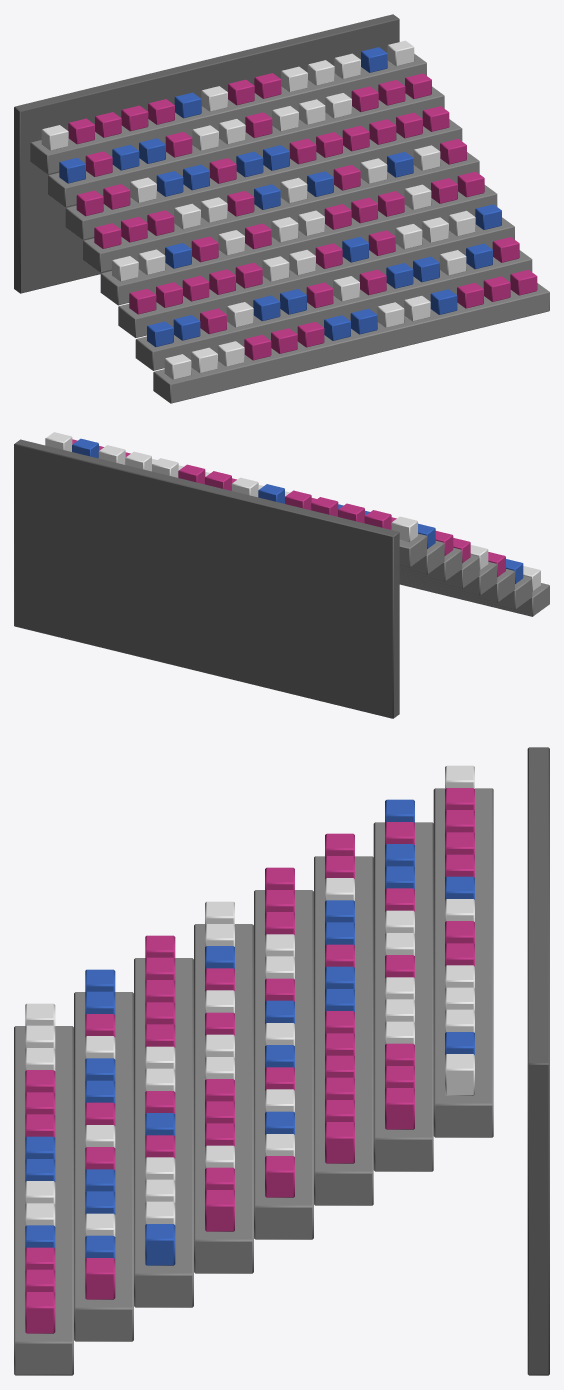
Rendered from stadium_stand.glb.
3 renders of one model, top to bottom at view 1: azimuth 30°, elevation 25°; view 2: azimuth 150°, elevation 25°; view 3: azimuth 270°, elevation 25°, orthographic. The views are drawn at different scales.
Parts seen in each view (by area): view 1: stadium_stand; view 2: stadium_stand; view 3: stadium_stand.
Boxes of the visible parts, x1,y1,x2,y2 form: stadium_stand: (14, 14, 549, 403); stadium_stand: (14, 432, 549, 718); stadium_stand: (14, 747, 549, 1375).
Bounding box in the file's own units: 10 × 4.6 × 7.15.
